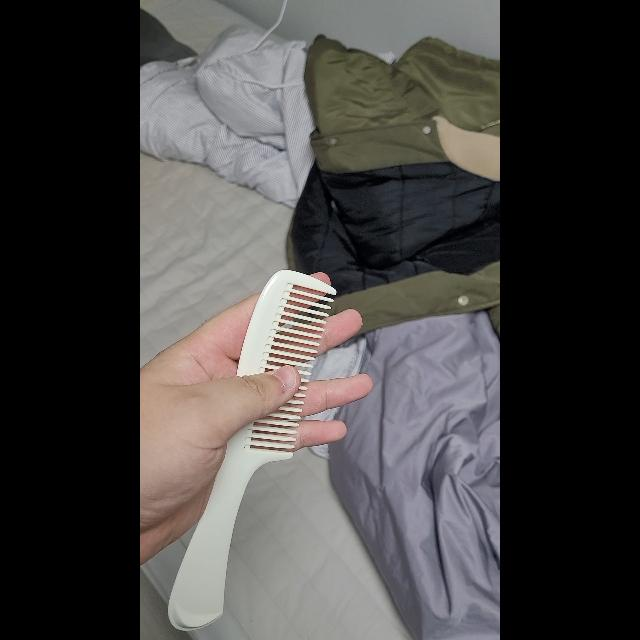COMB: (168, 269, 336, 631)
